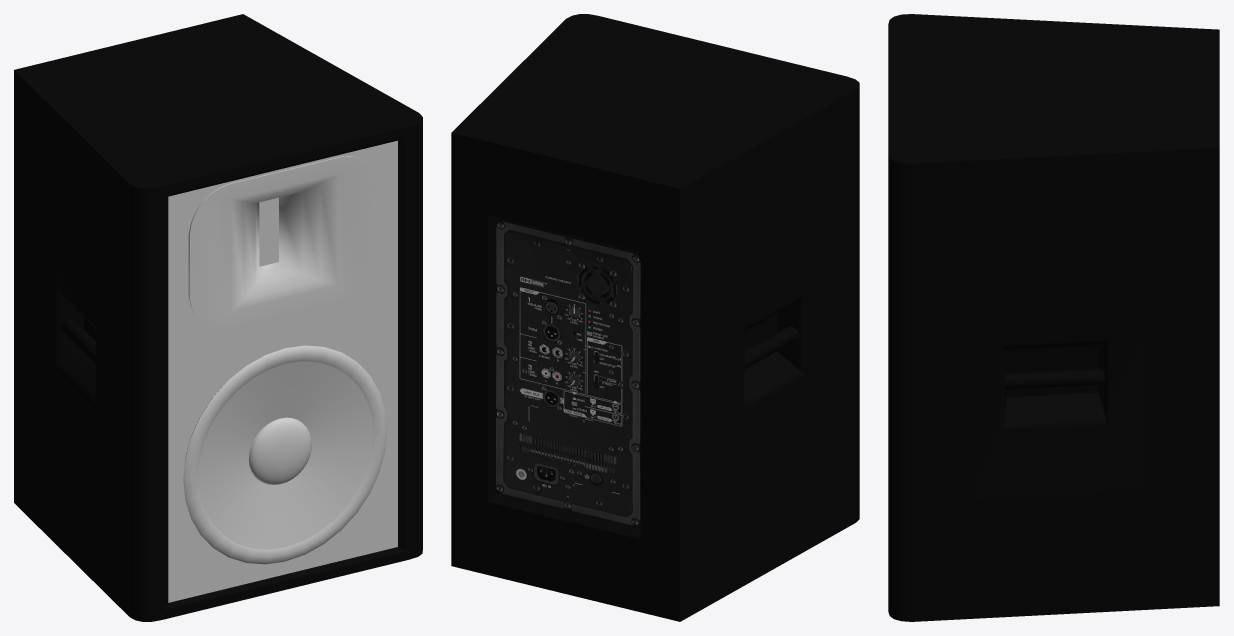
Rendered from SpeakerAnim.FBX.
3 renders of one model, left to right at view 1: azimuth 30°, elevation 25°; view 2: azimuth 150°, elevation 25°; view 3: azimuth 270°, elevation 25°, orthographic. The views are drawn at different scales.
Visible parts, largest first — view 1: Speaker, 2, Object001, 1; view 2: Speaker; view 3: Speaker.
Boxes of the visible parts, bbox=[...] form: Speaker: bbox=[14, 14, 422, 621]; 2: bbox=[198, 361, 373, 549]; Object001: bbox=[188, 156, 381, 328]; 1: bbox=[183, 345, 386, 564]; Speaker: bbox=[451, 14, 859, 621]; Speaker: bbox=[888, 14, 1219, 621].
Bounding box in the file's own units: 0.6032 × 0.8616 × 0.5649.
